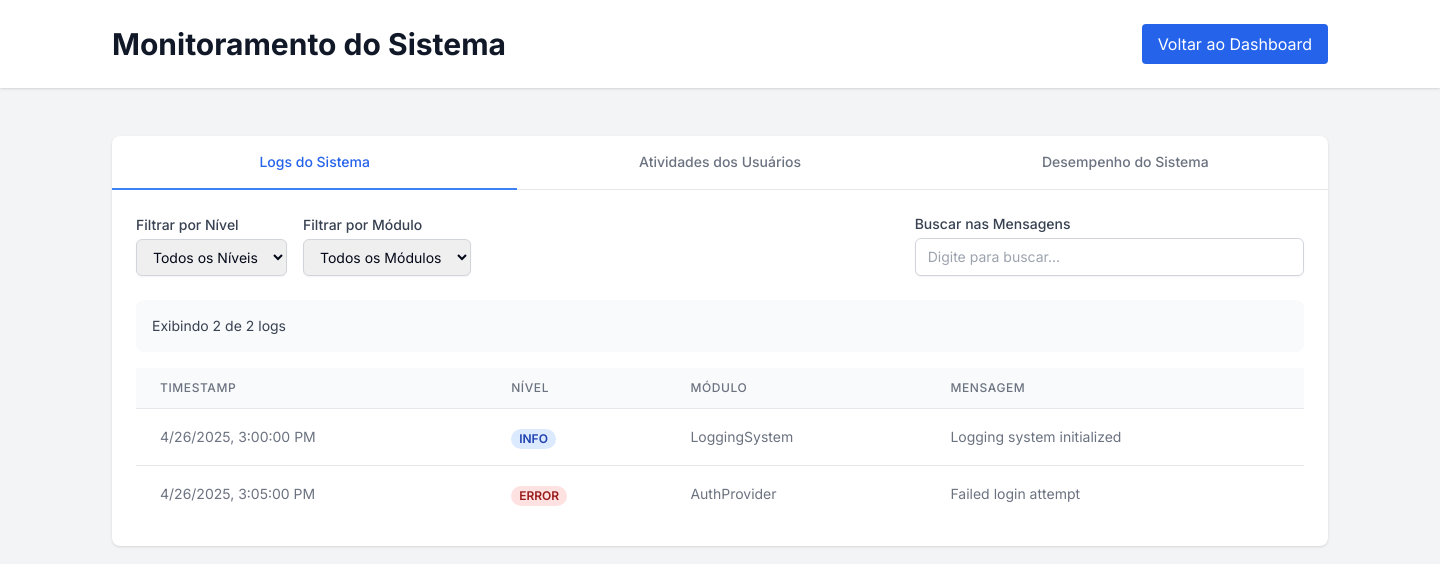
Test: MonitoringDashboard › permite buscar nas mensagens de log
This screenshot has width=1440, height=564.
Note: Buscar por "login"
Type "login" into the field labelled "Buscar nas Mensagens" at (1109, 257), box [915,238,1304,276]
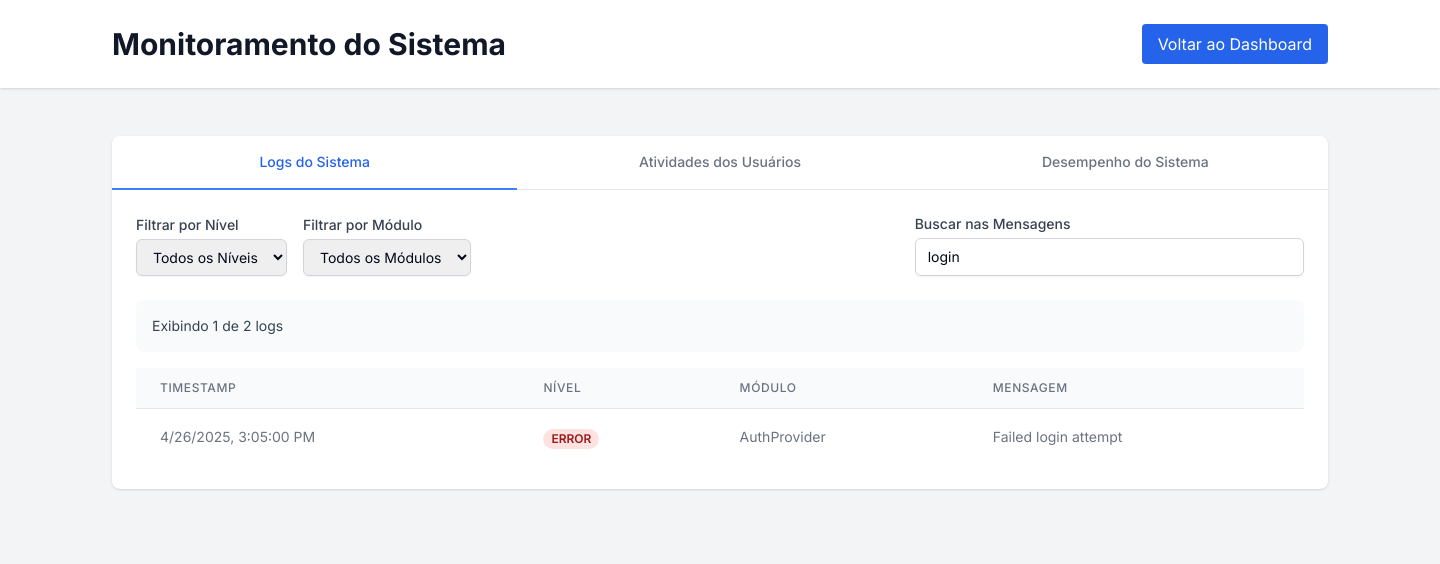
Check: the text "Logging system initialized" is gone
Check: the text "Failed login attempt" is shown, box [969,408,1304,465]
